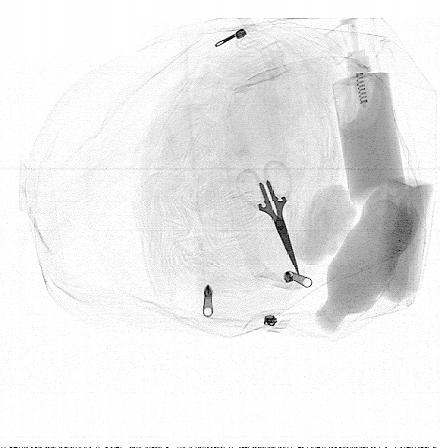Scissors: (235, 162, 300, 278)
